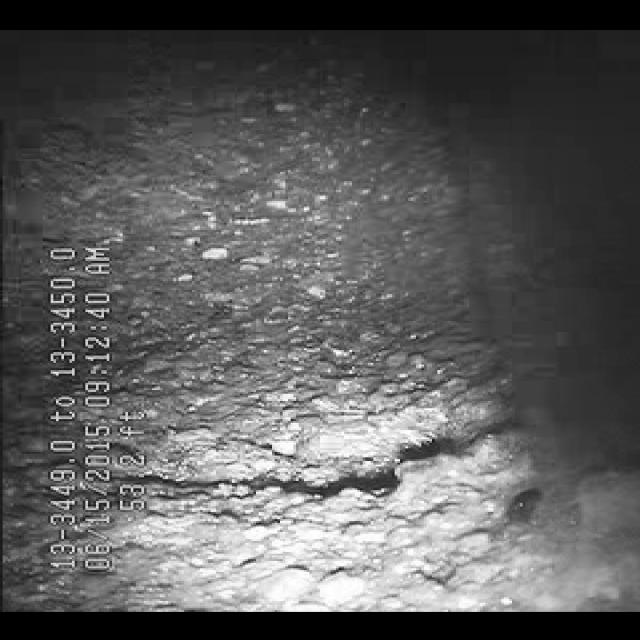Fracture: (165, 388, 535, 511)
